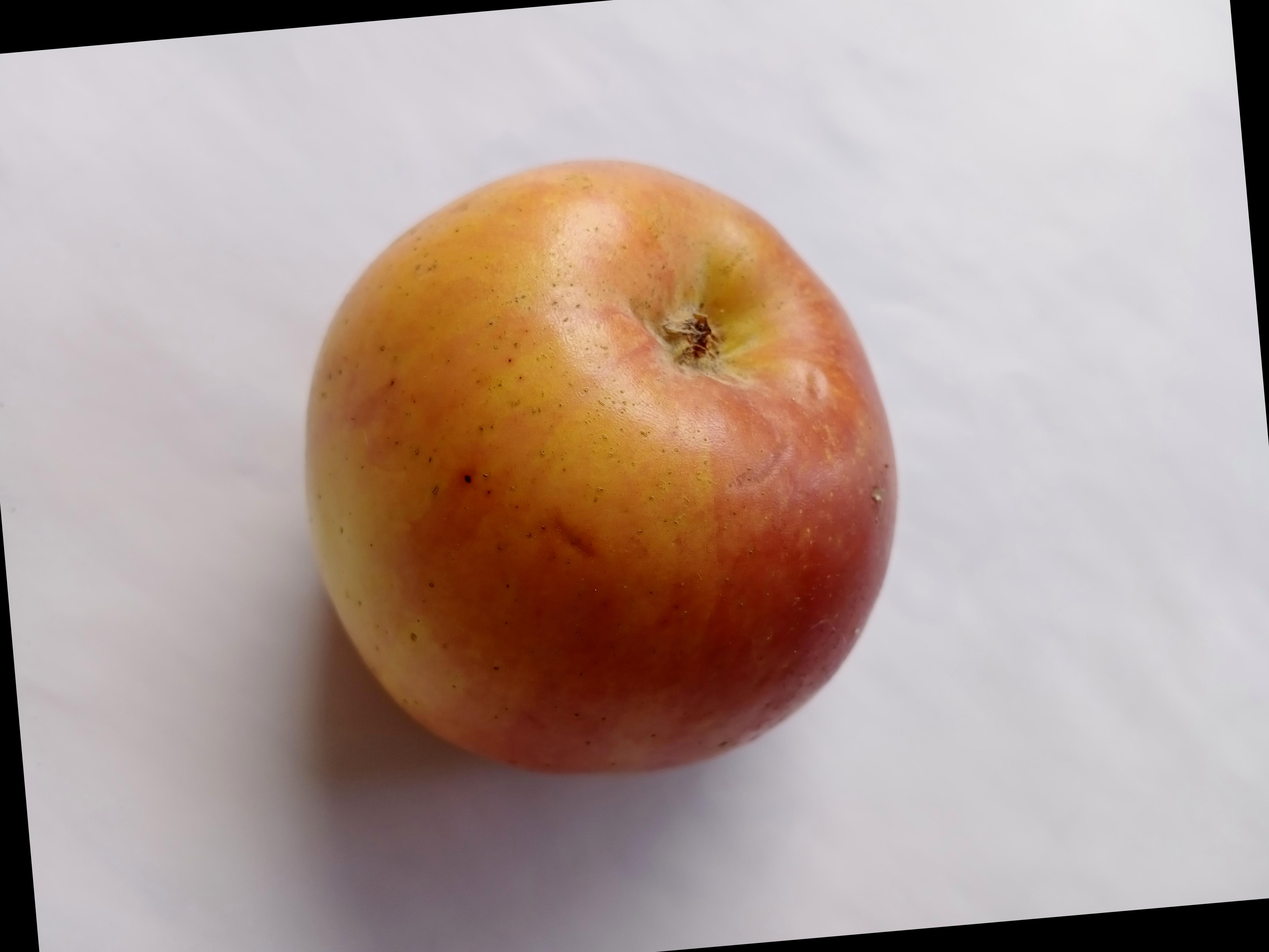Apple Ripe: (220, 187, 886, 915)
